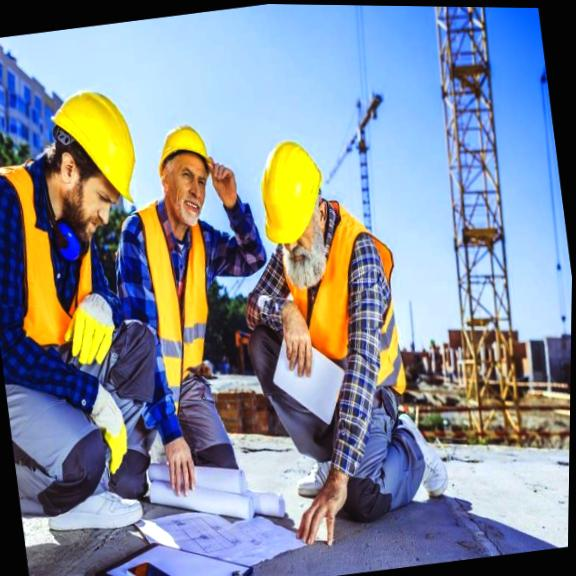no_safety_vest: (0, 167, 123, 456), (266, 221, 412, 451)
